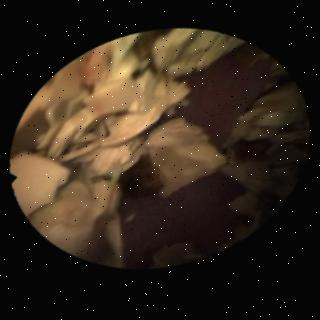stone: (10, 38, 238, 269), (217, 68, 305, 254), (150, 245, 201, 269)
